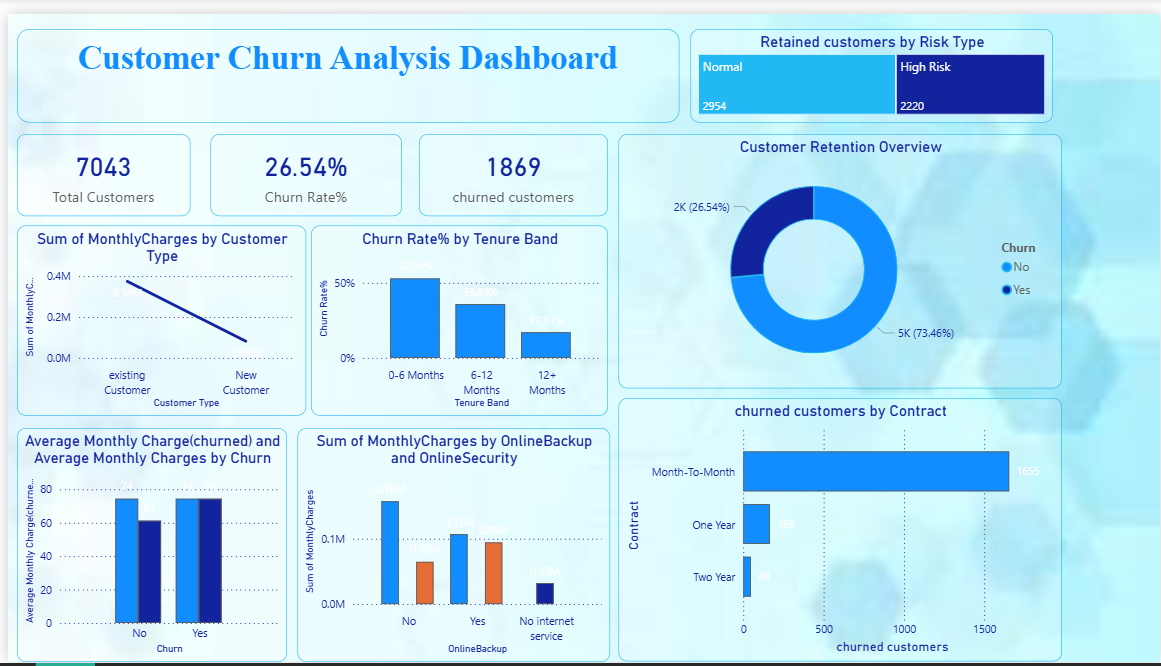

Layout of this report page (visuals, bound fields, positions):
{"tool":"powerbi","page":{"name":"Page 1","canvas":[1280,720],"ordinal":0},"visuals":[{"type":"textbox","box":[10,17.1,735.7,104.3],"z":0},{"type":"treemap","fields":{"Group":["telco_churn_unclean.Risk Type"],"Values":["telco_churn_unclean.Retained customers"]},"box":[758.6,17.1,402.9,104.3],"z":1000},{"type":"card","fields":{"Values":["telco_churn_unclean.Total Customers"]},"box":[10,132.9,192.9,91.4],"z":2000},{"type":"card","fields":{"Values":["telco_churn_unclean.Churn Rate%"]},"box":[224.3,132.9,212.9,91.4],"z":3000},{"type":"card","fields":{"Values":["telco_churn_unclean.churned customers"]},"box":[457.1,132.9,210,91.4],"z":4000},{"type":"donutChart","title":"Customer Retention Overview","fields":{"Category":["telco_churn_unclean.Churn"],"Y":["telco_churn_unclean.Total Customers"]},"box":[678.6,132.9,492.9,282.9],"z":5000},{"type":"clusteredBarChart","fields":{"Category":["telco_churn_unclean.Contract"],"Y":["telco_churn_unclean.churned customers"]},"box":[678.6,427.1,492.9,292.9],"z":6000},{"type":"clusteredColumnChart","fields":{"Y":["telco_churn_unclean.Churn Rate%"],"Category":["telco_churn_unclean.Tenure Band"]},"box":[337.1,235.7,330,211.4],"z":7000},{"type":"clusteredColumnChart","fields":{"Category":["telco_churn_unclean.OnlineBackup"],"Series":["telco_churn_unclean.OnlineSecurity"],"Y":["Sum(telco_churn_unclean.MonthlyCharges)"]},"box":[321.4,460,347.1,260],"z":8000},{"type":"clusteredColumnChart","fields":{"Y":["telco_churn_unclean.Average Monthly Charge(churned)","telco_churn_unclean.Average Monthly Charges"],"Category":["telco_churn_unclean.Churn"]},"box":[10,460,300,260],"z":9000},{"type":"lineChart","fields":{"Category":["telco_churn_unclean.Customer Type"],"Y":["Sum(telco_churn_unclean.MonthlyCharges)"]},"box":[10,235.7,321.4,211.4],"z":10000}]}

Visuals, with their boxes in screenshot pixels (x1, y1, x2, y2), scaled from the page's 1280x720 canvas onto the 1161x666 screenshot:
textbox: box(9, 16, 676, 112)
treemap - telco_churn_unclean.Risk Type x telco_churn_unclean.Retained customers: box(688, 16, 1054, 112)
card - telco_churn_unclean.Total Customers: box(9, 123, 184, 207)
card - telco_churn_unclean.Churn Rate%: box(203, 123, 397, 207)
card - telco_churn_unclean.churned customers: box(415, 123, 605, 207)
"Customer Retention Overview" donutChart: box(616, 123, 1063, 385)
clusteredBarChart - telco_churn_unclean.Contract x telco_churn_unclean.churned customers: box(616, 395, 1063, 665)
clusteredColumnChart - telco_churn_unclean.Churn Rate% x telco_churn_unclean.Tenure Band: box(306, 218, 605, 414)
clusteredColumnChart - telco_churn_unclean.OnlineBackup x telco_churn_unclean.OnlineSecurity: box(292, 426, 606, 665)
clusteredColumnChart - telco_churn_unclean.Average Monthly Charge(churned) x telco_churn_unclean.Average Monthly Charges: box(9, 426, 281, 665)
lineChart - telco_churn_unclean.Customer Type x Sum(telco_churn_unclean.MonthlyCharges): box(9, 218, 301, 414)
